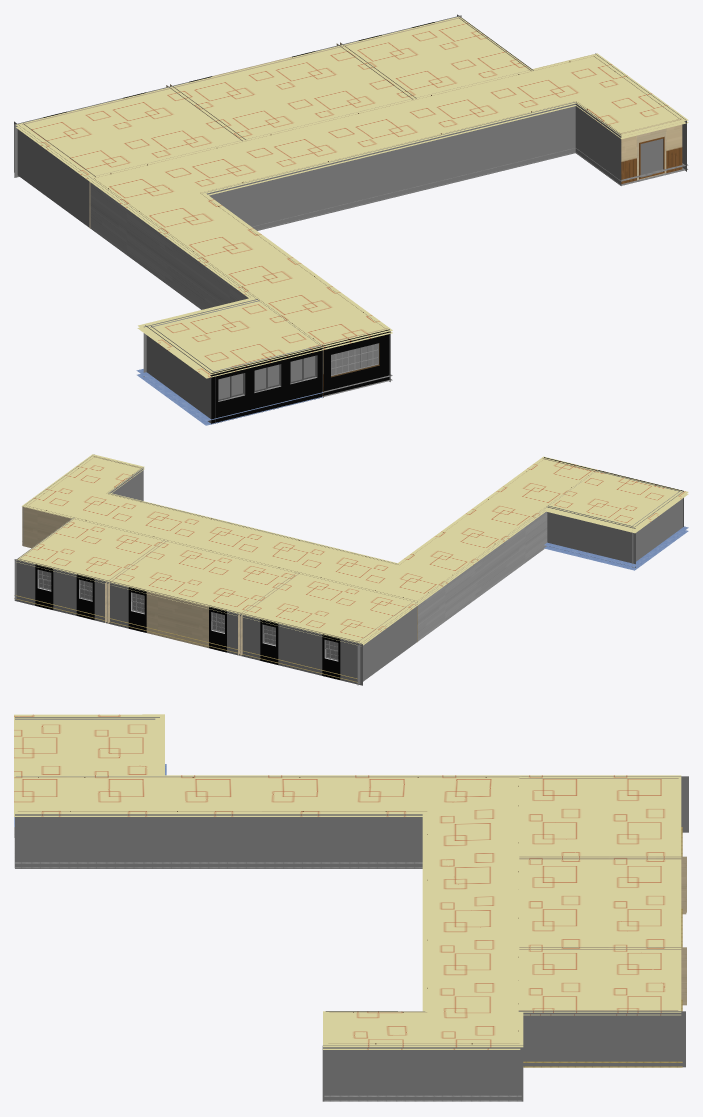
File: planimetria ufficio giornalistico_06.FBX
3 views of the same model, one above another, from view 1: azimuth 30°, elevation 25°; view 2: azimuth 150°, elevation 25°; view 3: azimuth 270°, elevation 25° (orthographic). The views are drawn at different scales.
Visible parts, largest first — view 1: soffitto001, Planimetria, soffitto, pavimento, pavimento001, finestra ufficio012; view 2: soffitto001, Planimetria, soffitto, pavimento, pavimento001; view 3: soffitto001, Planimetria, pavimento, pavimento001, soffitto.
Part boxes in pixels (x1,y1,x2,y2): soffitto001: (16, 16, 688, 375); Planimetria: (14, 14, 686, 423); soffitto: (16, 105, 688, 378); pavimento: (136, 148, 688, 421); pavimento001: (137, 152, 687, 425); finestra ufficio012: (331, 343, 378, 375); soffitto001: (16, 454, 688, 644); Planimetria: (14, 454, 683, 685); soffitto: (16, 468, 688, 645); pavimento: (14, 526, 688, 678); pavimento001: (14, 530, 688, 682); soffitto001: (14, 714, 681, 1047); Planimetria: (15, 717, 688, 1101); pavimento: (14, 764, 682, 1096); pavimento001: (14, 833, 682, 1101); soffitto: (14, 814, 680, 1049).
Size of the model in its own units: 42.08 by 3.46 by 36.07.
